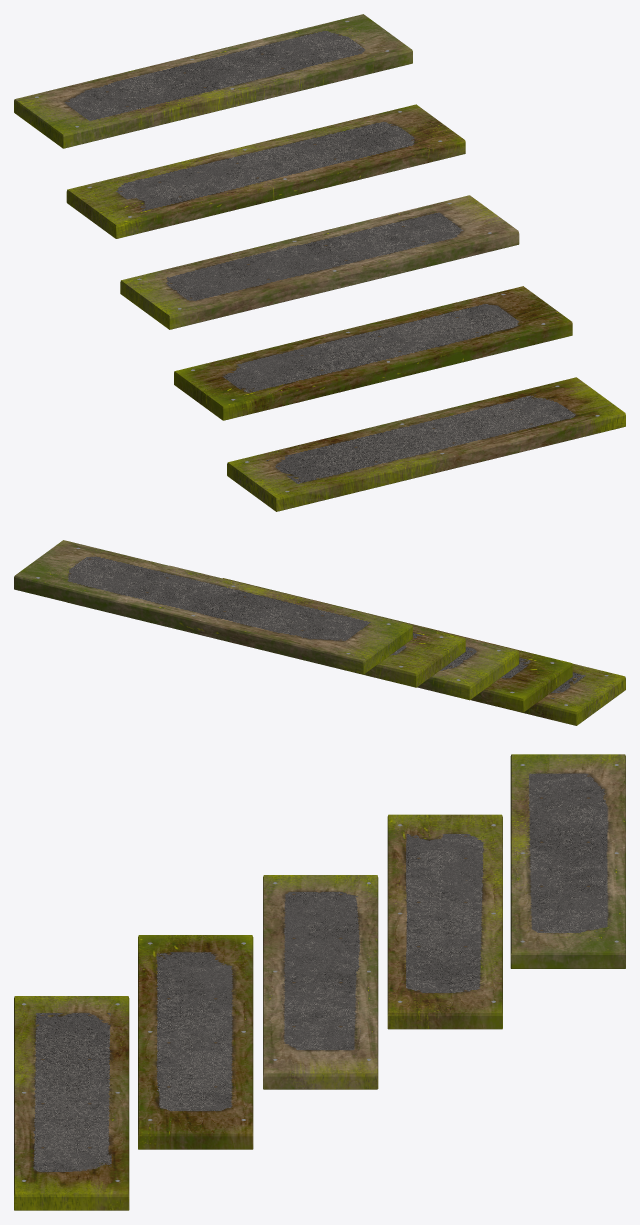
The model's file is PNW Pathway_Stairs_Grip.glb.
The picture shows the model from 3 angles, top to bottom: view 1: azimuth 30°, elevation 25°; view 2: azimuth 150°, elevation 25°; view 3: azimuth 270°, elevation 25°; orthographic projection. The views are drawn at different scales.
Parts seen in each view (by area): view 1: Plank Stairs Grip; view 2: Plank Stairs Grip; view 3: Plank Stairs Grip.
Part boxes in pixels (x1=…): Plank Stairs Grip: x1=14, y1=14, x2=625, y2=511; Plank Stairs Grip: x1=14, y1=540, x2=625, y2=725; Plank Stairs Grip: x1=14, y1=754, x2=625, y2=1210.
Size of the model in its own units: 1.52 by 0.9171 by 1.97.
1 material, 1 textured.
